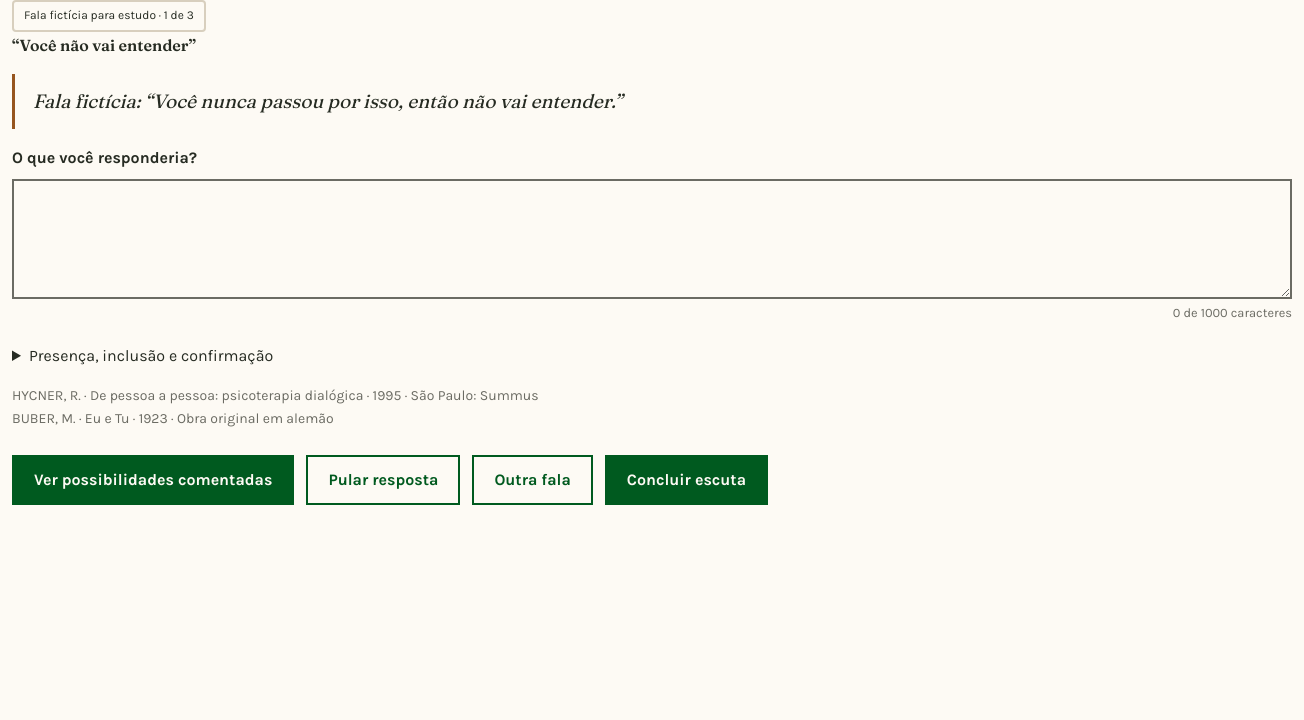
Test: Escuta Dialógica: quatro respostas comentadas e nomeadas, depois da própria resposta
Check: the text "Aconselhar" is not shown
What coordinates should you click on to do the following:
click the button "Ver possibilidades comentadas"
I would click on:
 (153, 480)
Its box is [12, 455, 294, 505].
(page scrolled)
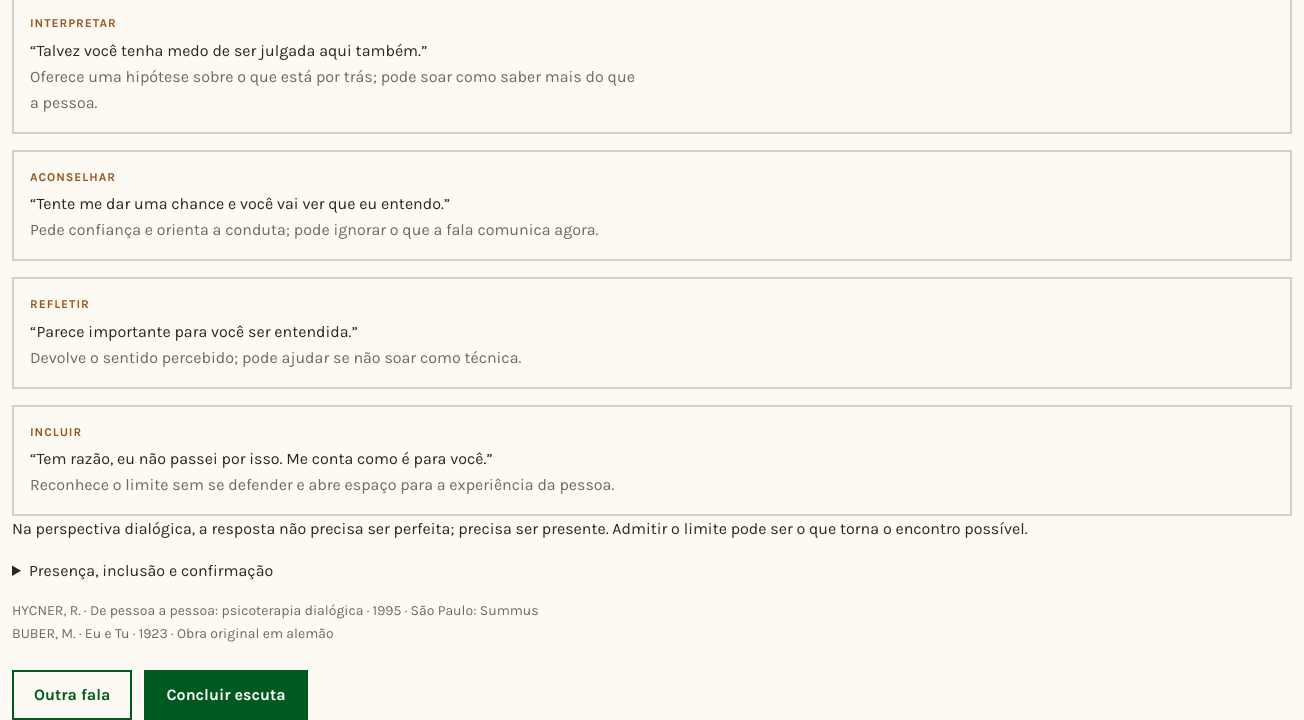
Check: the text "Interpretar" is shown, box [30, 16, 117, 30]
Check: the text "Aconselhar" is shown, box [30, 170, 116, 184]
Check: the text "Refletir" is shown, box [30, 298, 90, 312]
